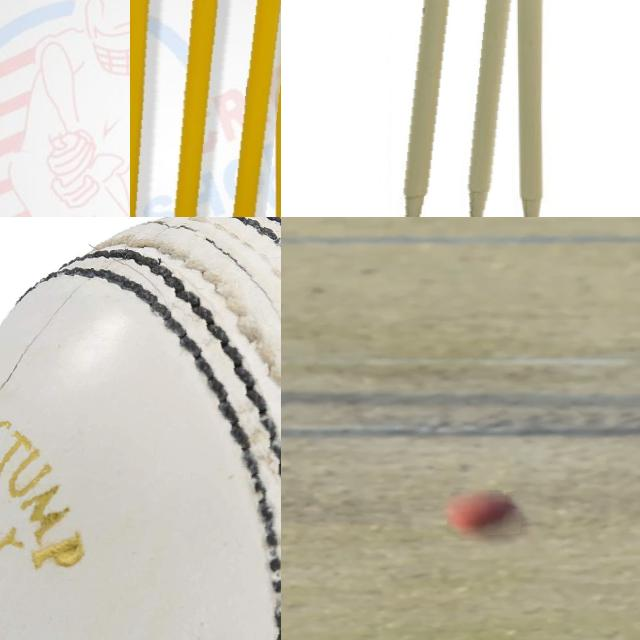Cricket ball: (0, 217, 281, 640), (448, 490, 526, 538)
Stumps: (391, 0, 544, 217), (130, 0, 281, 217)
